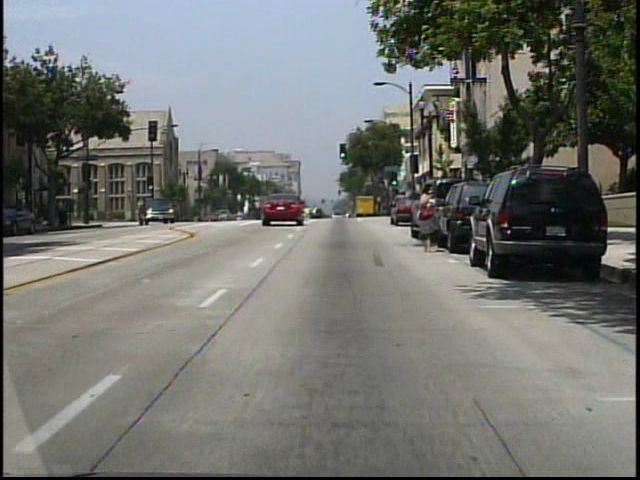person: (413, 182, 447, 254)
